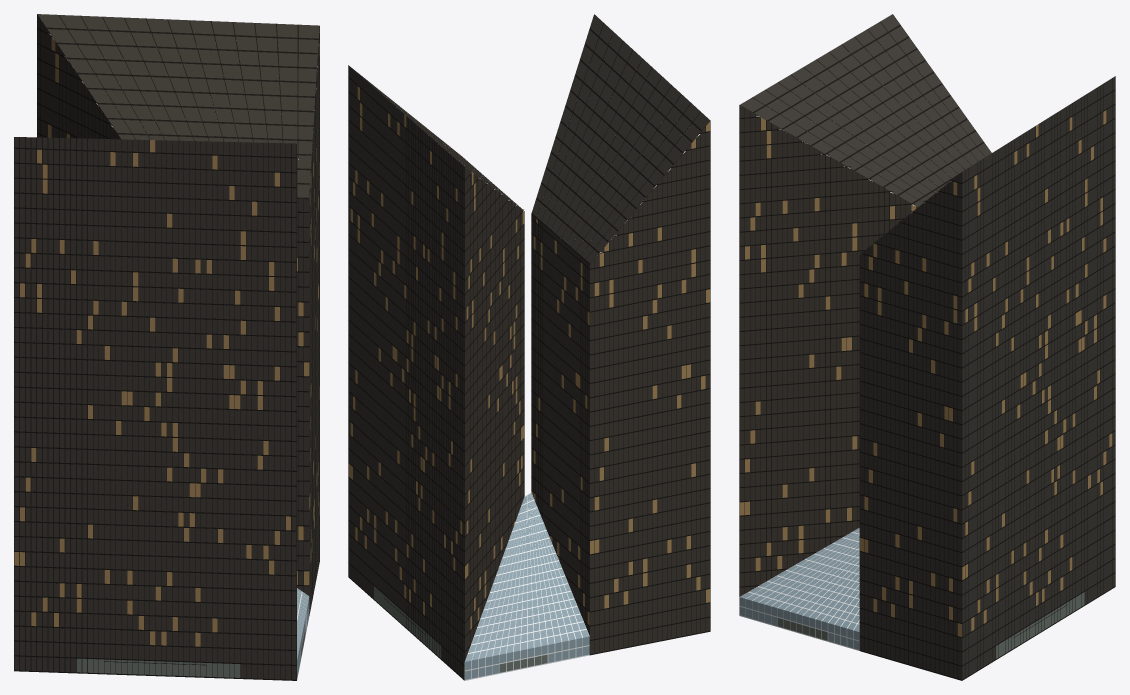
The model's file is pennzoil-place-near.glb.
The picture shows the model from 3 angles, left to right: view 1: azimuth 30°, elevation 25°; view 2: azimuth 150°, elevation 25°; view 3: azimuth 270°, elevation 25°; orthographic projection. The views are drawn at different scales.
Visible parts, largest first — view 1: pennzoil-place-0-glass, pennzoil-place-0-mullion, pennzoil-place-0-light, pennzoil-place-0-lobby, pennzoil-place-0-atrium; view 2: pennzoil-place-0-glass, pennzoil-place-0-mullion, pennzoil-place-0-atrium, pennzoil-place-0-light, pennzoil-place-0-frame, pennzoil-place-0-lobby; view 3: pennzoil-place-0-glass, pennzoil-place-0-mullion, pennzoil-place-0-light, pennzoil-place-0-atrium, pennzoil-place-0-frame, pennzoil-place-0-lobby.
Boxes of the visible parts, bbox=[...] form: pennzoil-place-0-glass: bbox=[14, 14, 319, 679]; pennzoil-place-0-mullion: bbox=[14, 14, 319, 680]; pennzoil-place-0-light: bbox=[14, 36, 319, 646]; pennzoil-place-0-lobby: bbox=[76, 625, 305, 677]; pennzoil-place-0-atrium: bbox=[297, 588, 309, 678]; pennzoil-place-0-glass: bbox=[348, 14, 710, 679]; pennzoil-place-0-mullion: bbox=[348, 14, 710, 680]; pennzoil-place-0-atrium: bbox=[465, 492, 589, 679]; pennzoil-place-0-light: bbox=[348, 86, 710, 629]; pennzoil-place-0-frame: bbox=[464, 492, 589, 680]; pennzoil-place-0-lobby: bbox=[374, 586, 547, 672]; pennzoil-place-0-glass: bbox=[739, 14, 1115, 679]; pennzoil-place-0-mullion: bbox=[739, 14, 1115, 680]; pennzoil-place-0-light: bbox=[739, 110, 1112, 637]; pennzoil-place-0-atrium: bbox=[739, 528, 859, 649]; pennzoil-place-0-frame: bbox=[739, 530, 859, 650]; pennzoil-place-0-lobby: bbox=[777, 592, 1084, 658].
Bounding box in the file's own units: 106 × 159 × 106.
